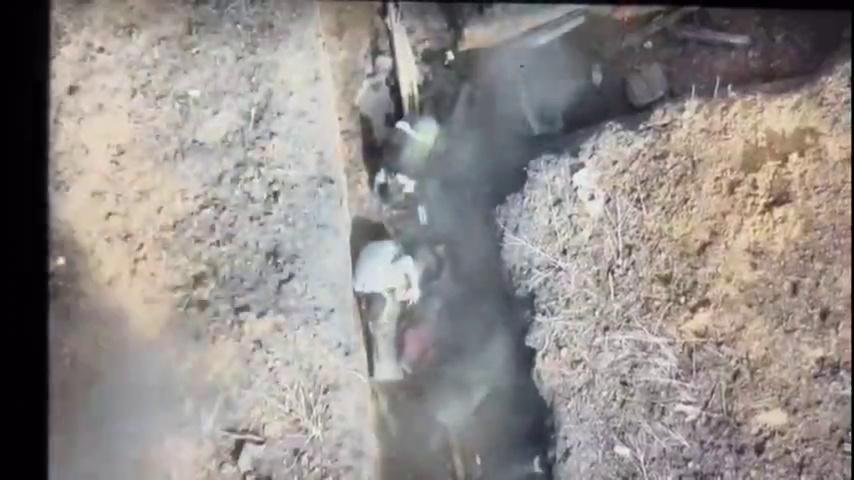person: (351, 241, 420, 326)
trench: (302, 1, 848, 480)
